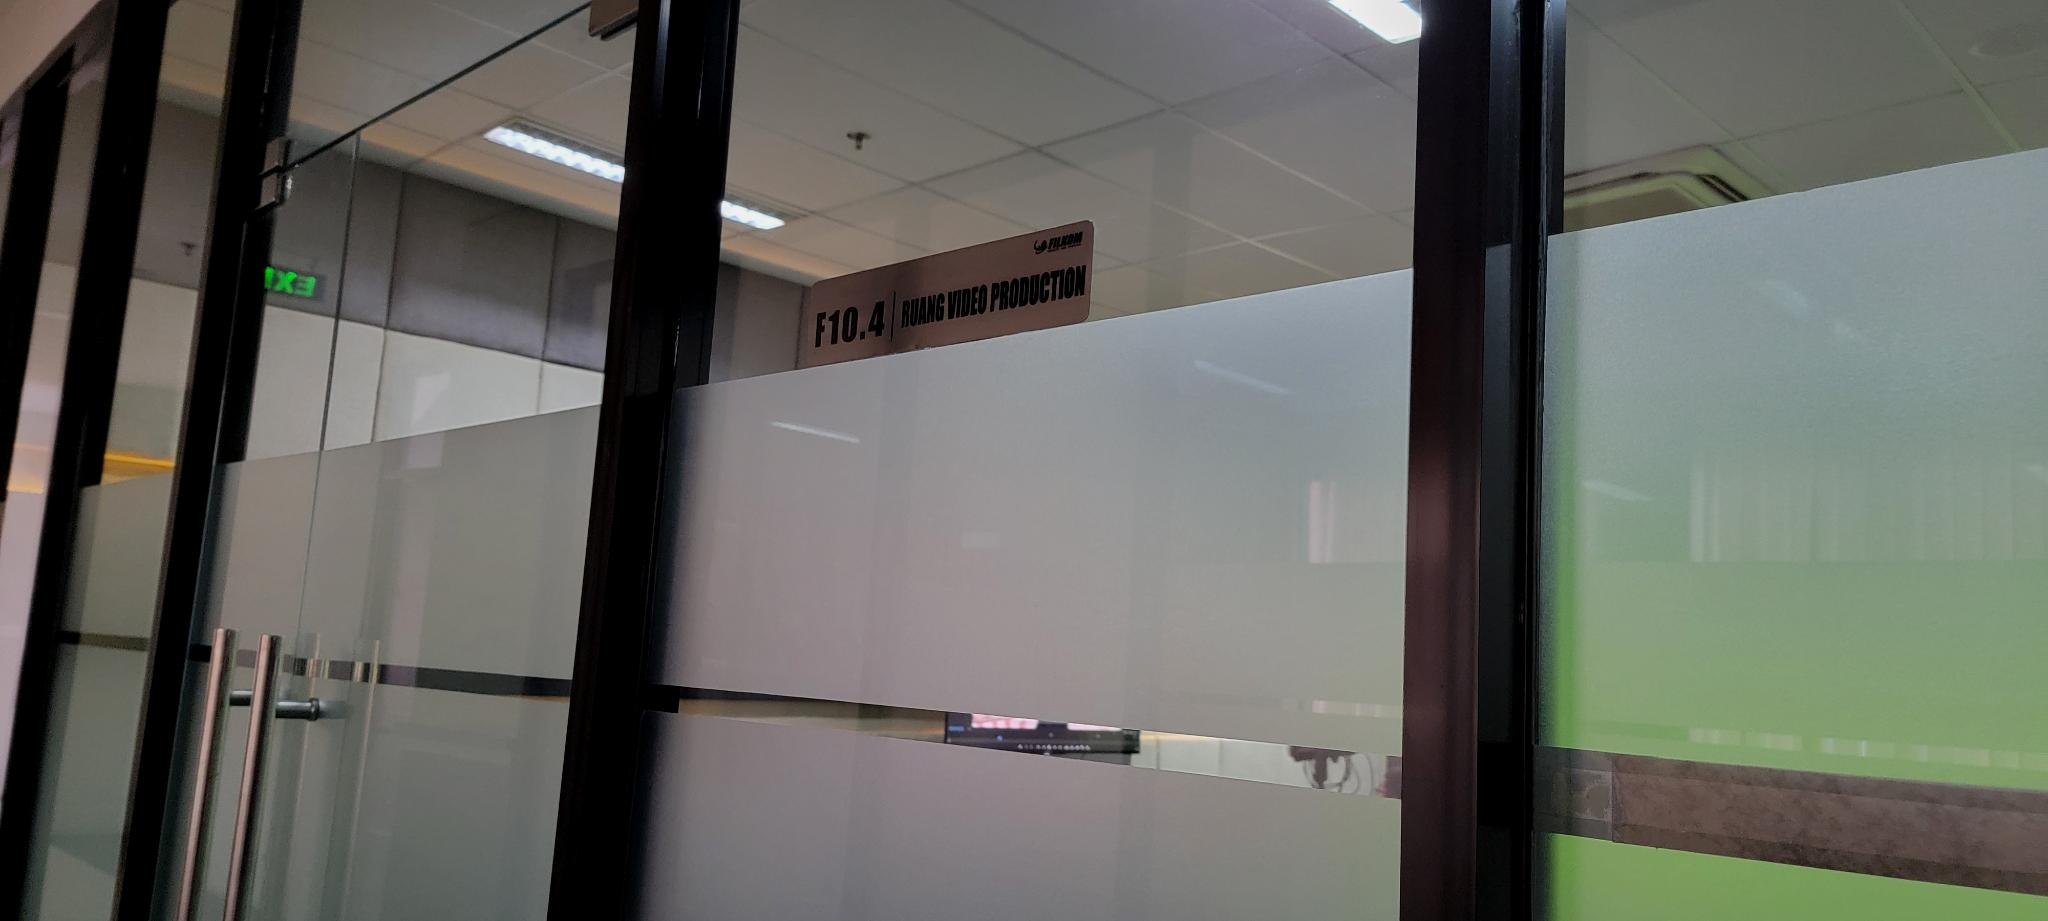plate: (797, 217, 1096, 374)
